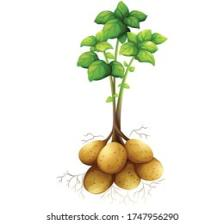Potato: (96, 142, 130, 176), (124, 138, 157, 166), (84, 167, 113, 196), (135, 156, 164, 183), (78, 142, 109, 167), (111, 166, 142, 190)
